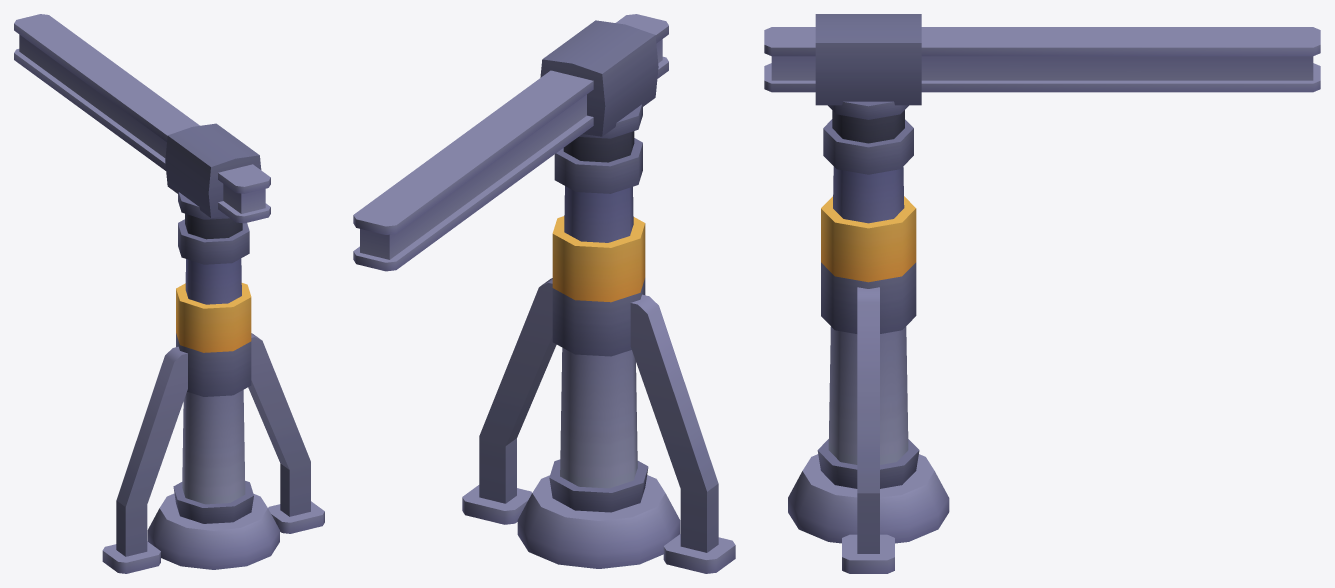
The model's file is kenney-conveyor-crane.glb.
3 views of the same model, side by side, from view 1: azimuth 30°, elevation 25°; view 2: azimuth 150°, elevation 25°; view 3: azimuth 270°, elevation 25° (orthographic). The views are drawn at different scales.
Visible parts, largest first — view 1: crane; view 2: crane; view 3: crane.
Part boxes in pixels (x1,y1,x2,y2): crane: (14,14,324,573); crane: (353,14,735,573); crane: (764,14,1320,573).
Size of the model in its own units: 1.93 by 3.55 by 3.68.
Materials: 1 (1 with a texture image).
